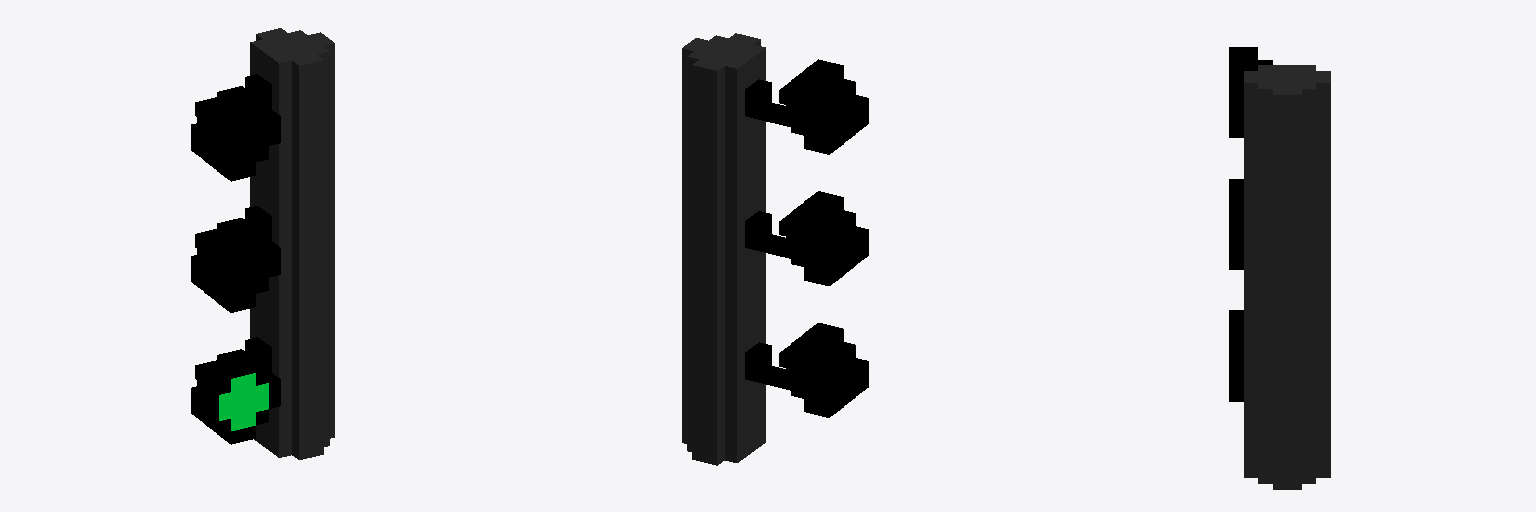
The picture shows the model from 3 angles: view 1: azimuth 30°, elevation 25°; view 2: azimuth 150°, elevation 25°; view 3: azimuth 270°, elevation 25°; orthographic projection.
Size of the model in its own units: 12 by 30 by 7.
1 materials, 1 textured.